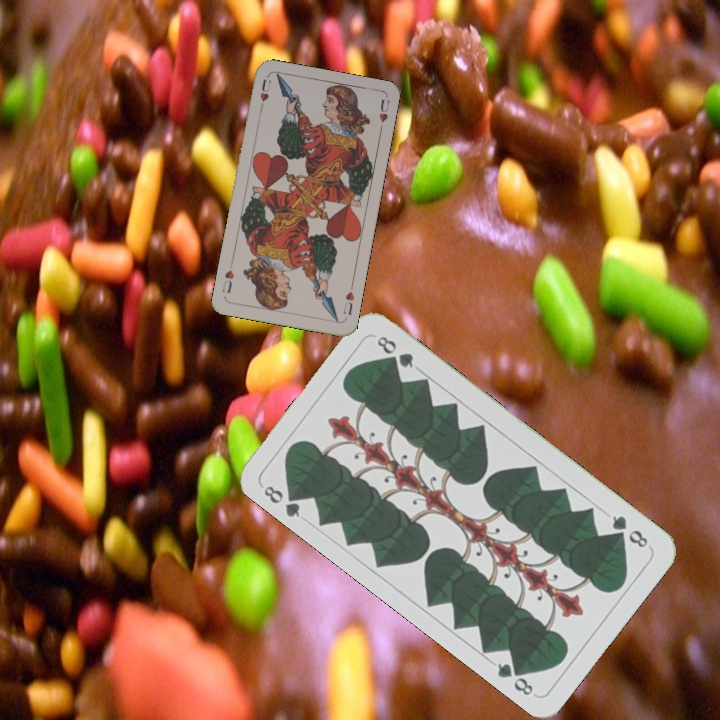G8: (259, 481, 305, 521), (607, 511, 651, 551)
HU: (256, 75, 274, 114), (339, 287, 357, 317)
